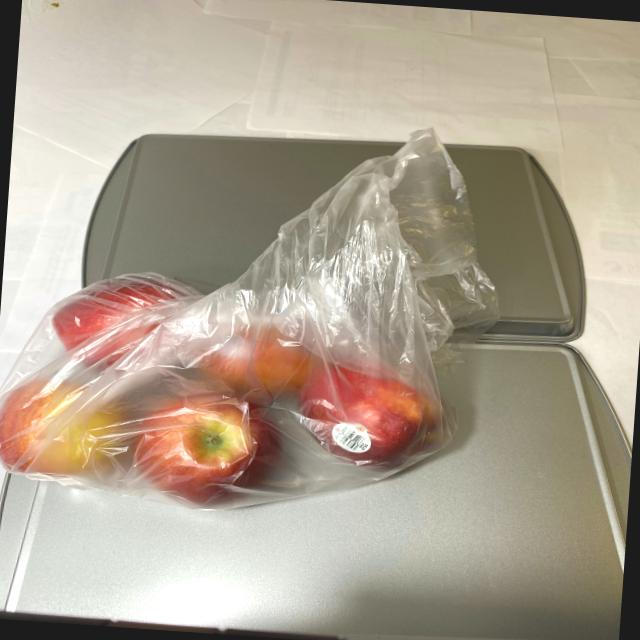apple: (0, 252, 465, 524)
